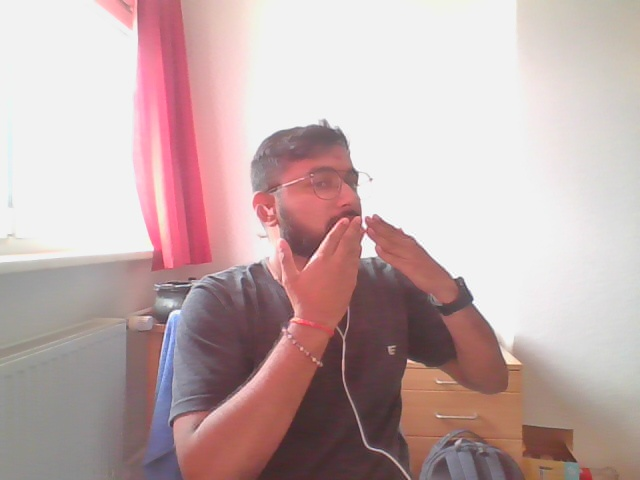ThankYou: (279, 212, 455, 307)
